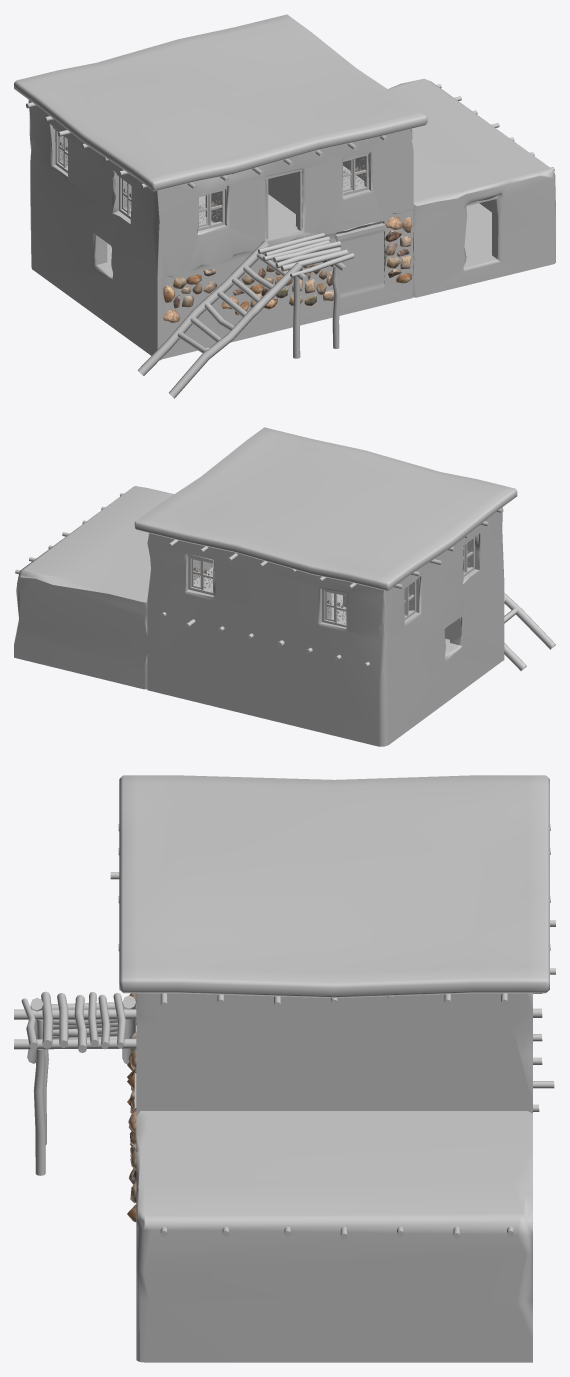
File: House_03.fbx
The picture shows the model from 3 angles, top to bottom: view 1: azimuth 30°, elevation 25°; view 2: azimuth 150°, elevation 25°; view 3: azimuth 270°, elevation 25°; orthographic projection. The views are drawn at different scales.
Visible parts, largest first — view 1: polySurface3121; view 2: polySurface3121; view 3: polySurface3121.
Boxes of the visible parts, left/top/right/bottom form: polySurface3121: left=14, top=14, right=555, bottom=398; polySurface3121: left=14, top=427, right=555, bottom=746; polySurface3121: left=14, top=775, right=555, bottom=1362.
Bounding box in the file's own units: 13.43 × 5.86 × 9.57.
